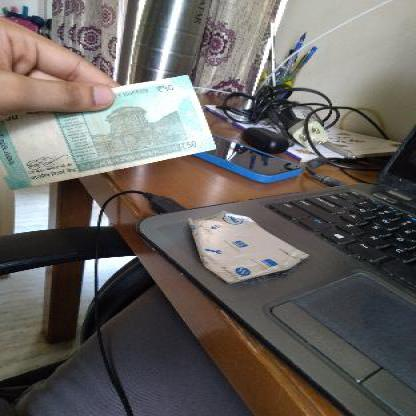New50Back: (0, 72, 211, 178)
